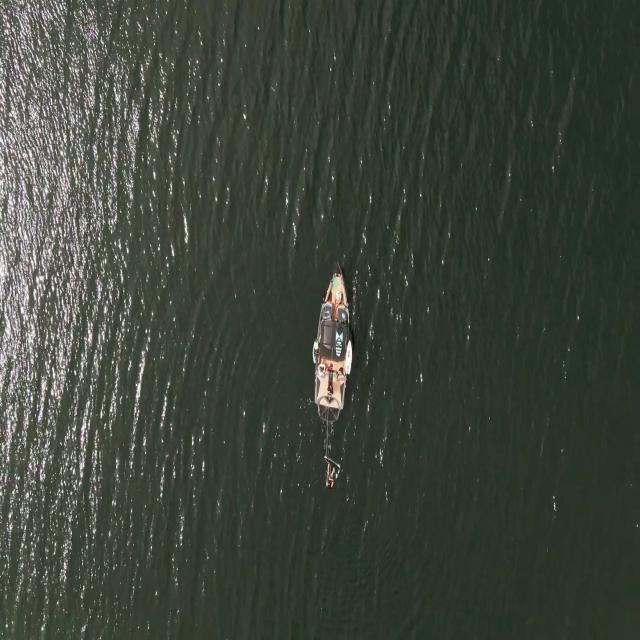ship: (314, 266, 347, 425), (345, 333, 351, 379)
